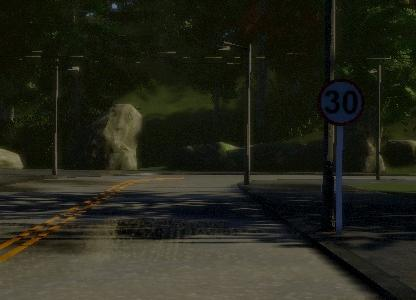Speed_30: (316, 76, 367, 129)
